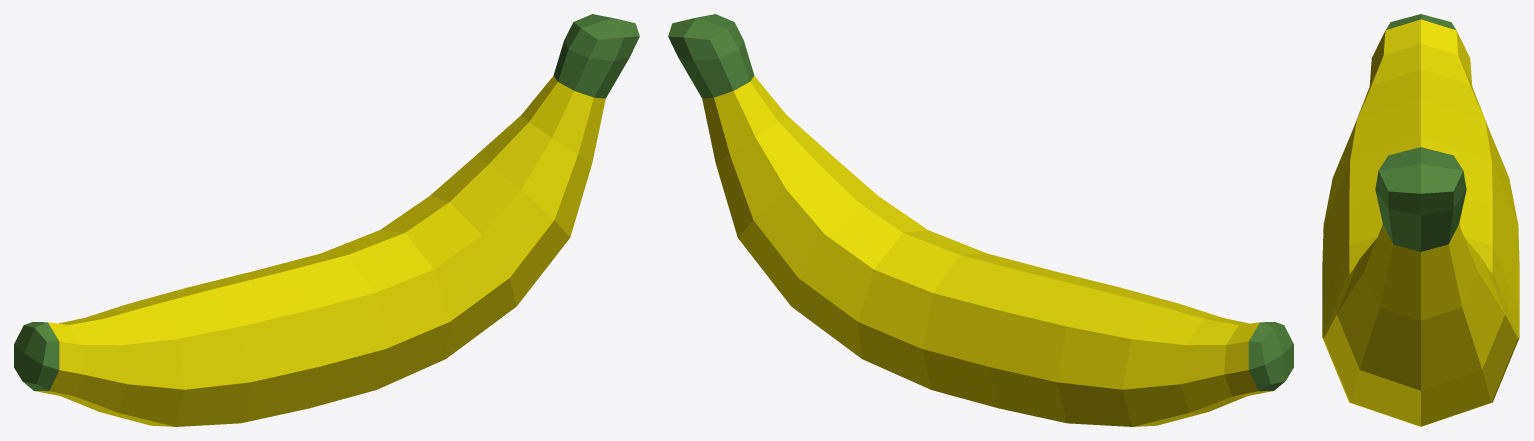
File: Banana.glb
3 renders of one model, left to right at view 1: azimuth 30°, elevation 25°; view 2: azimuth 150°, elevation 25°; view 3: azimuth 270°, elevation 25°, orthographic. The views are drawn at different scales.
Visible parts, largest first — view 1: Cube; view 2: Cube; view 3: Cube.
Part boxes in pixels (x1,y1,x2,y2): Cube: [14, 14, 639, 426]; Cube: [668, 14, 1293, 426]; Cube: [1322, 14, 1519, 426].
Bounding box in the file's own units: 8.73 × 4.19 × 1.83.
